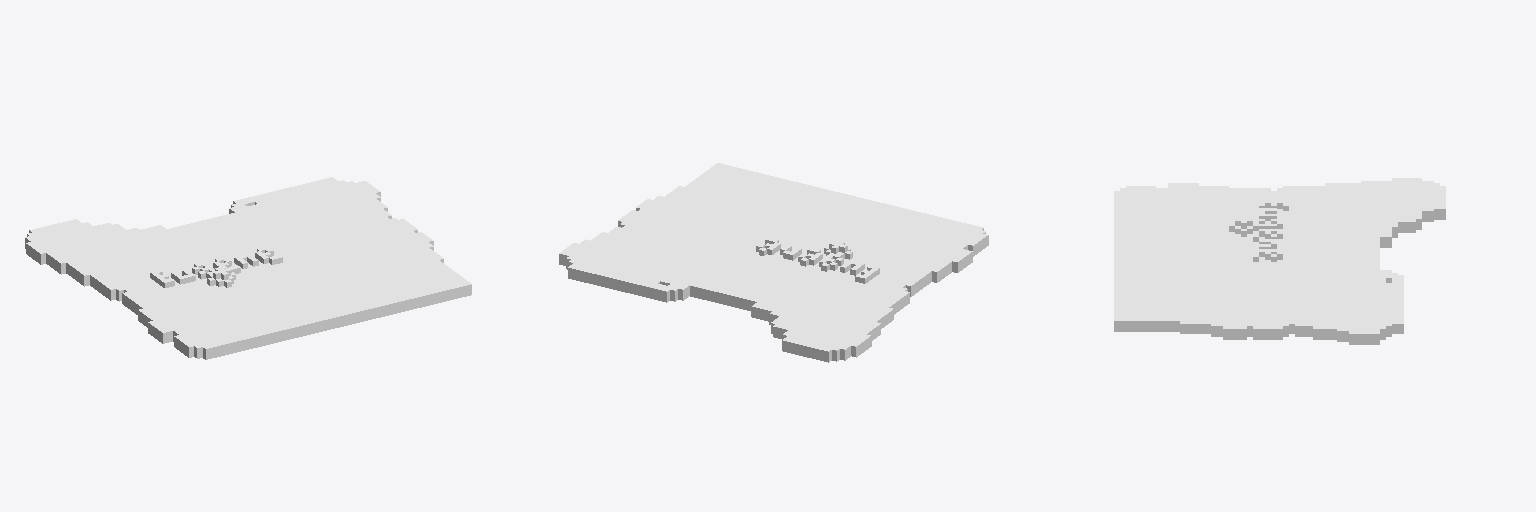
Rendered from oregon.obj.
3 renders of one model, left to right at view 1: azimuth 30°, elevation 25°; view 2: azimuth 150°, elevation 25°; view 3: azimuth 270°, elevation 25°, orthographic.
Visible parts, largest first — view 1: object 1; view 2: object 1; view 3: object 1.
Boxes of the visible parts, <box> form: object 1: <box>25,177,471,359</box>; object 1: <box>559,163,988,362</box>; object 1: <box>1114,178,1445,344</box>.
Size of the model in its own units: 6.1 by 0.4 by 5.5.